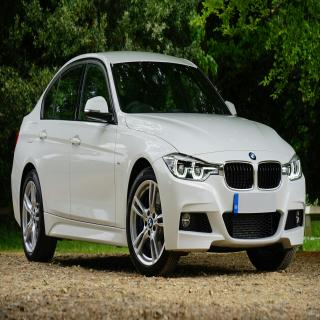Normal_vehicle: (10, 48, 305, 276)
